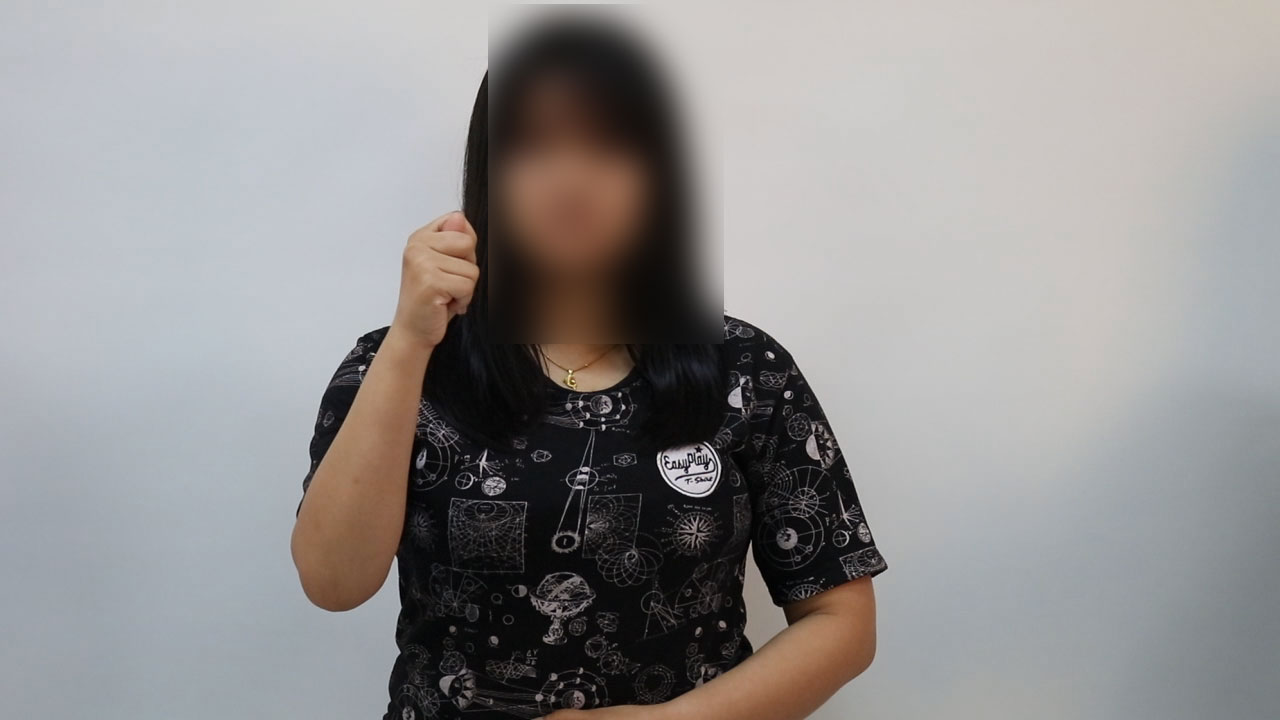tor: (377, 202, 507, 360)
